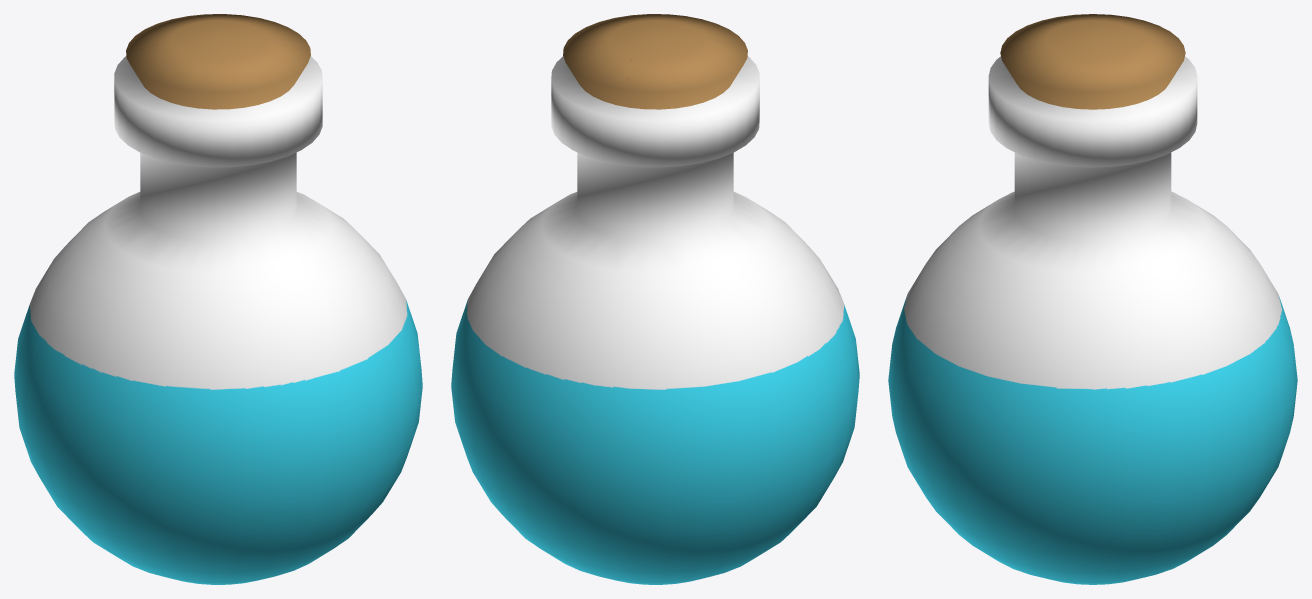
File: potion.dae
3 views of the same model, side by side, from view 1: azimuth 30°, elevation 25°; view 2: azimuth 150°, elevation 25°; view 3: azimuth 270°, elevation 25° (orthographic).
Parts seen in each view (by area): view 1: Sphere; view 2: Sphere; view 3: Sphere.
Part boxes in pixels (x1,y1,x2,y2): Sphere: (14, 14, 422, 584); Sphere: (451, 14, 859, 584); Sphere: (888, 14, 1297, 584).
Size of the model in its own units: 0.703 by 0.703 by 1.
Materials: 1 (1 with a texture image).
